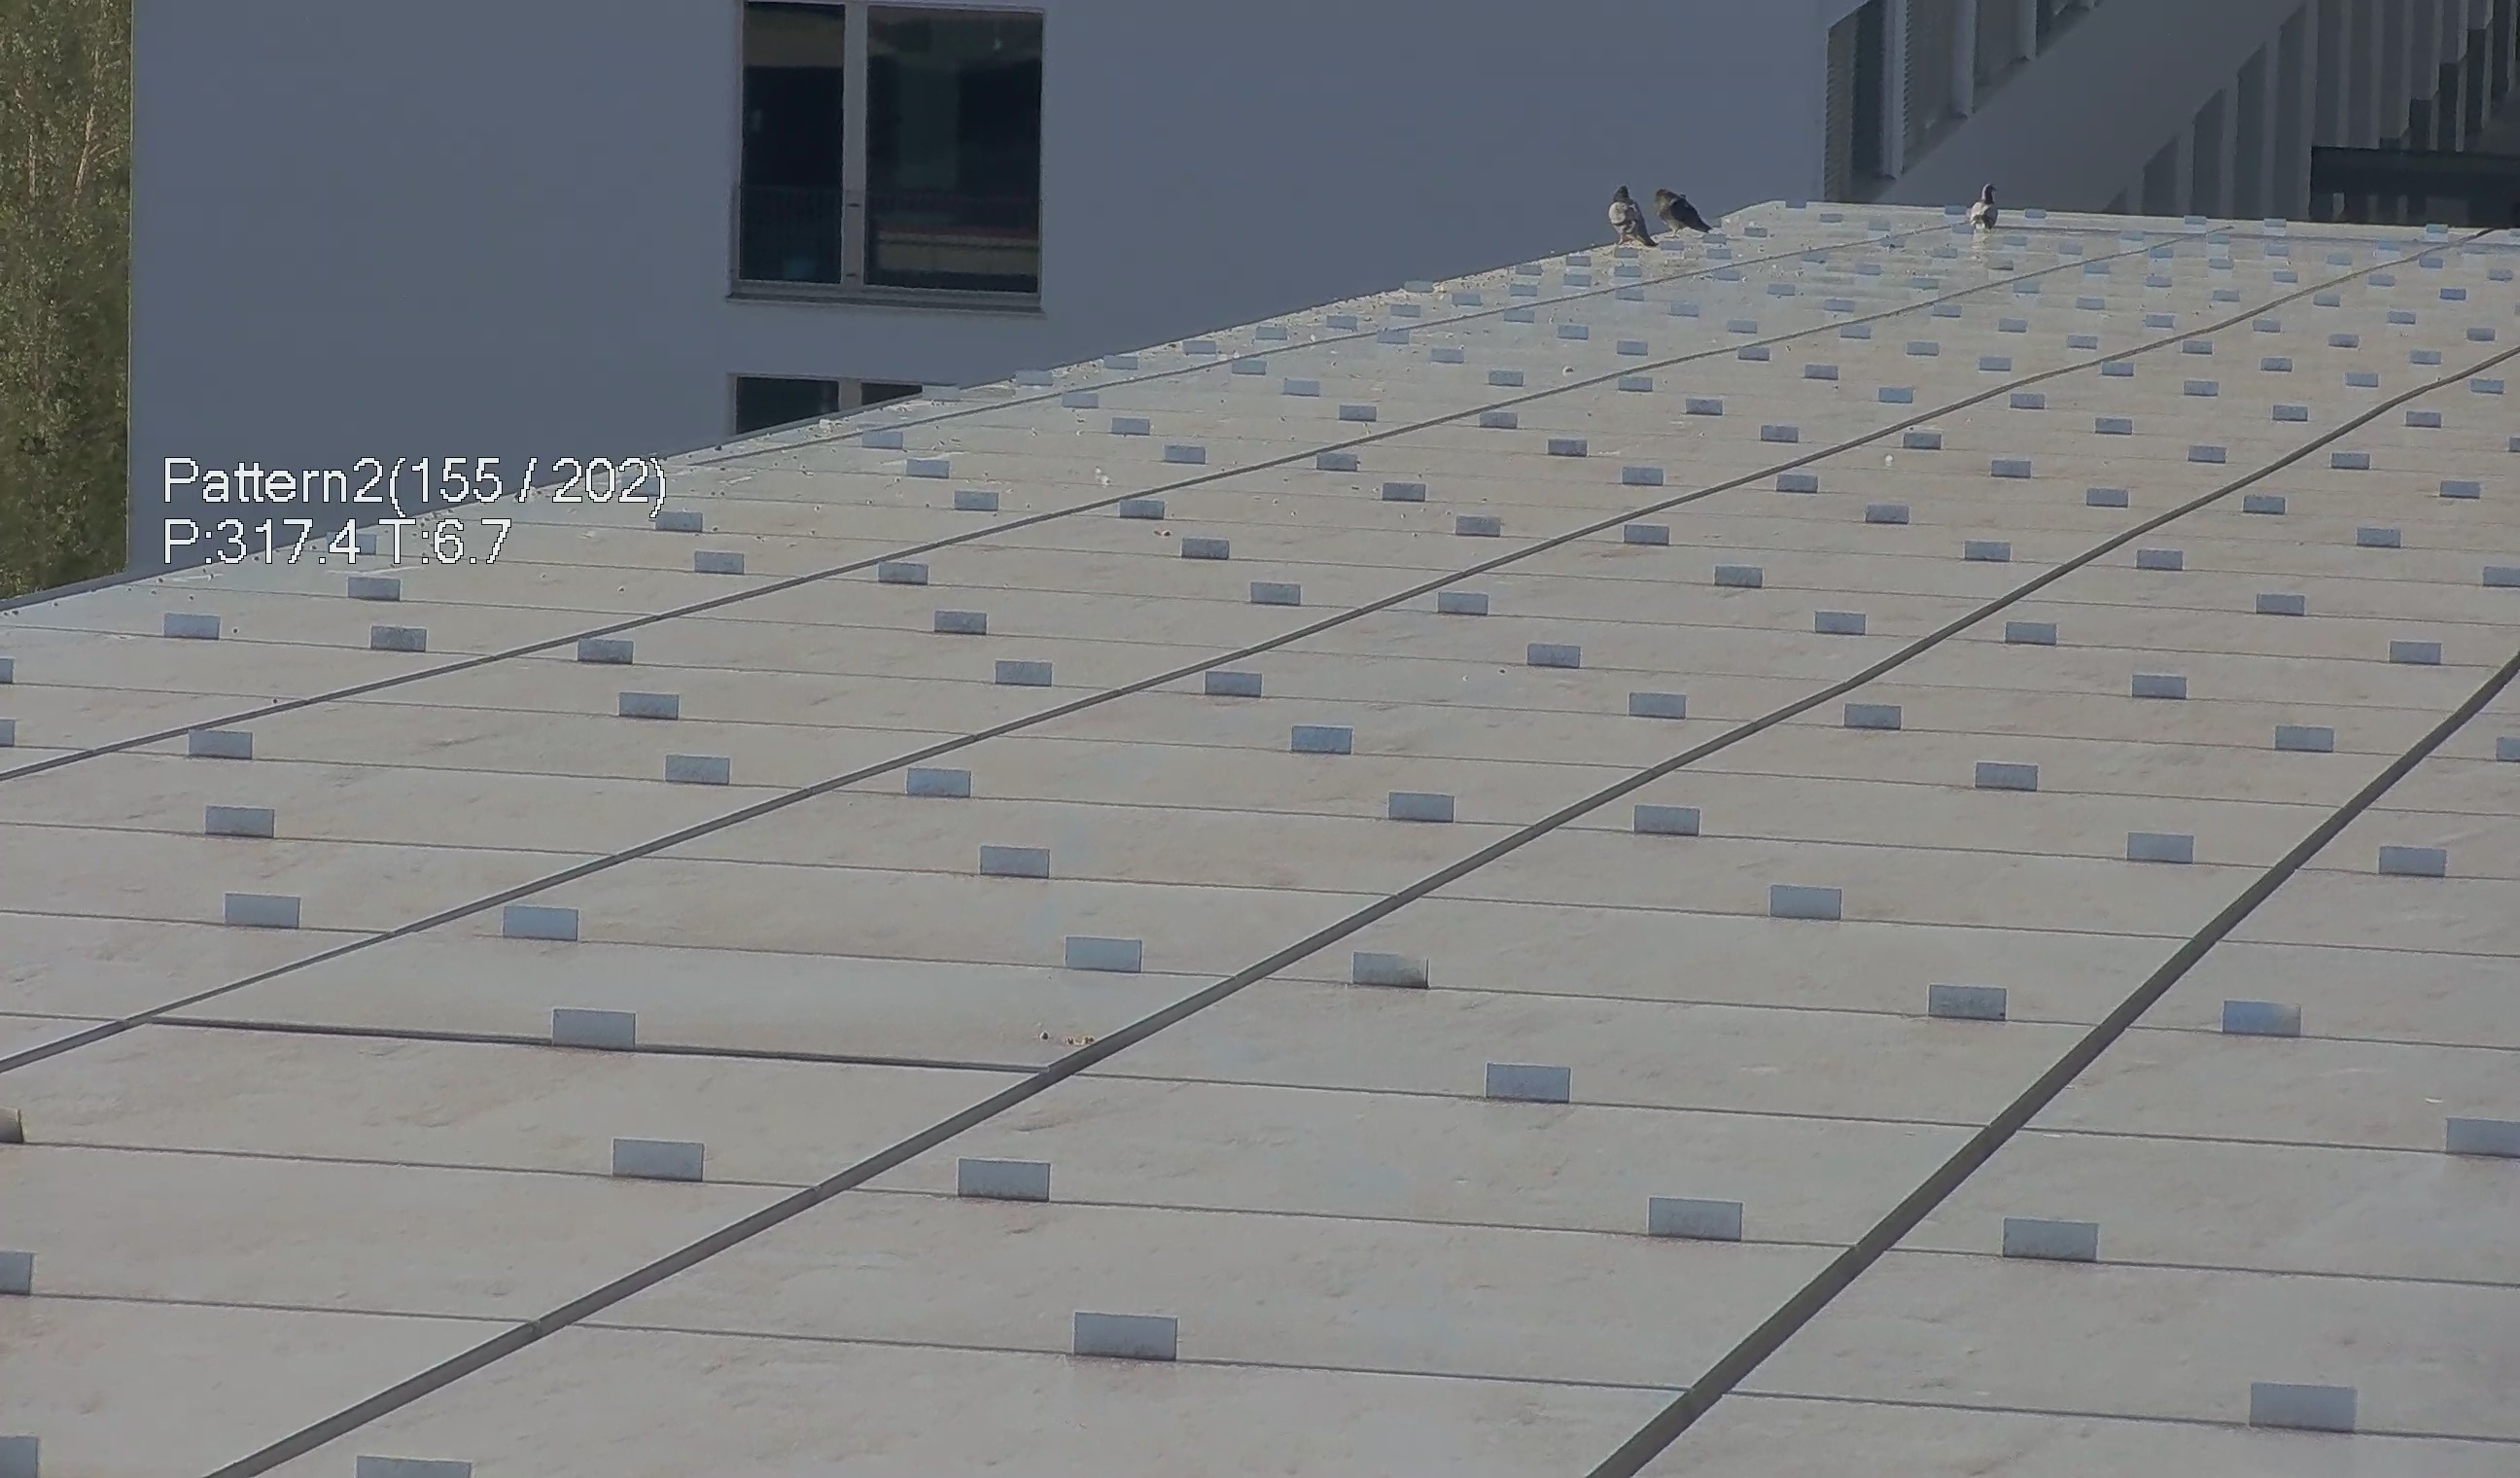Pigeon: (1641, 172, 1716, 246), (1597, 172, 1660, 255), (1961, 178, 2012, 239)
